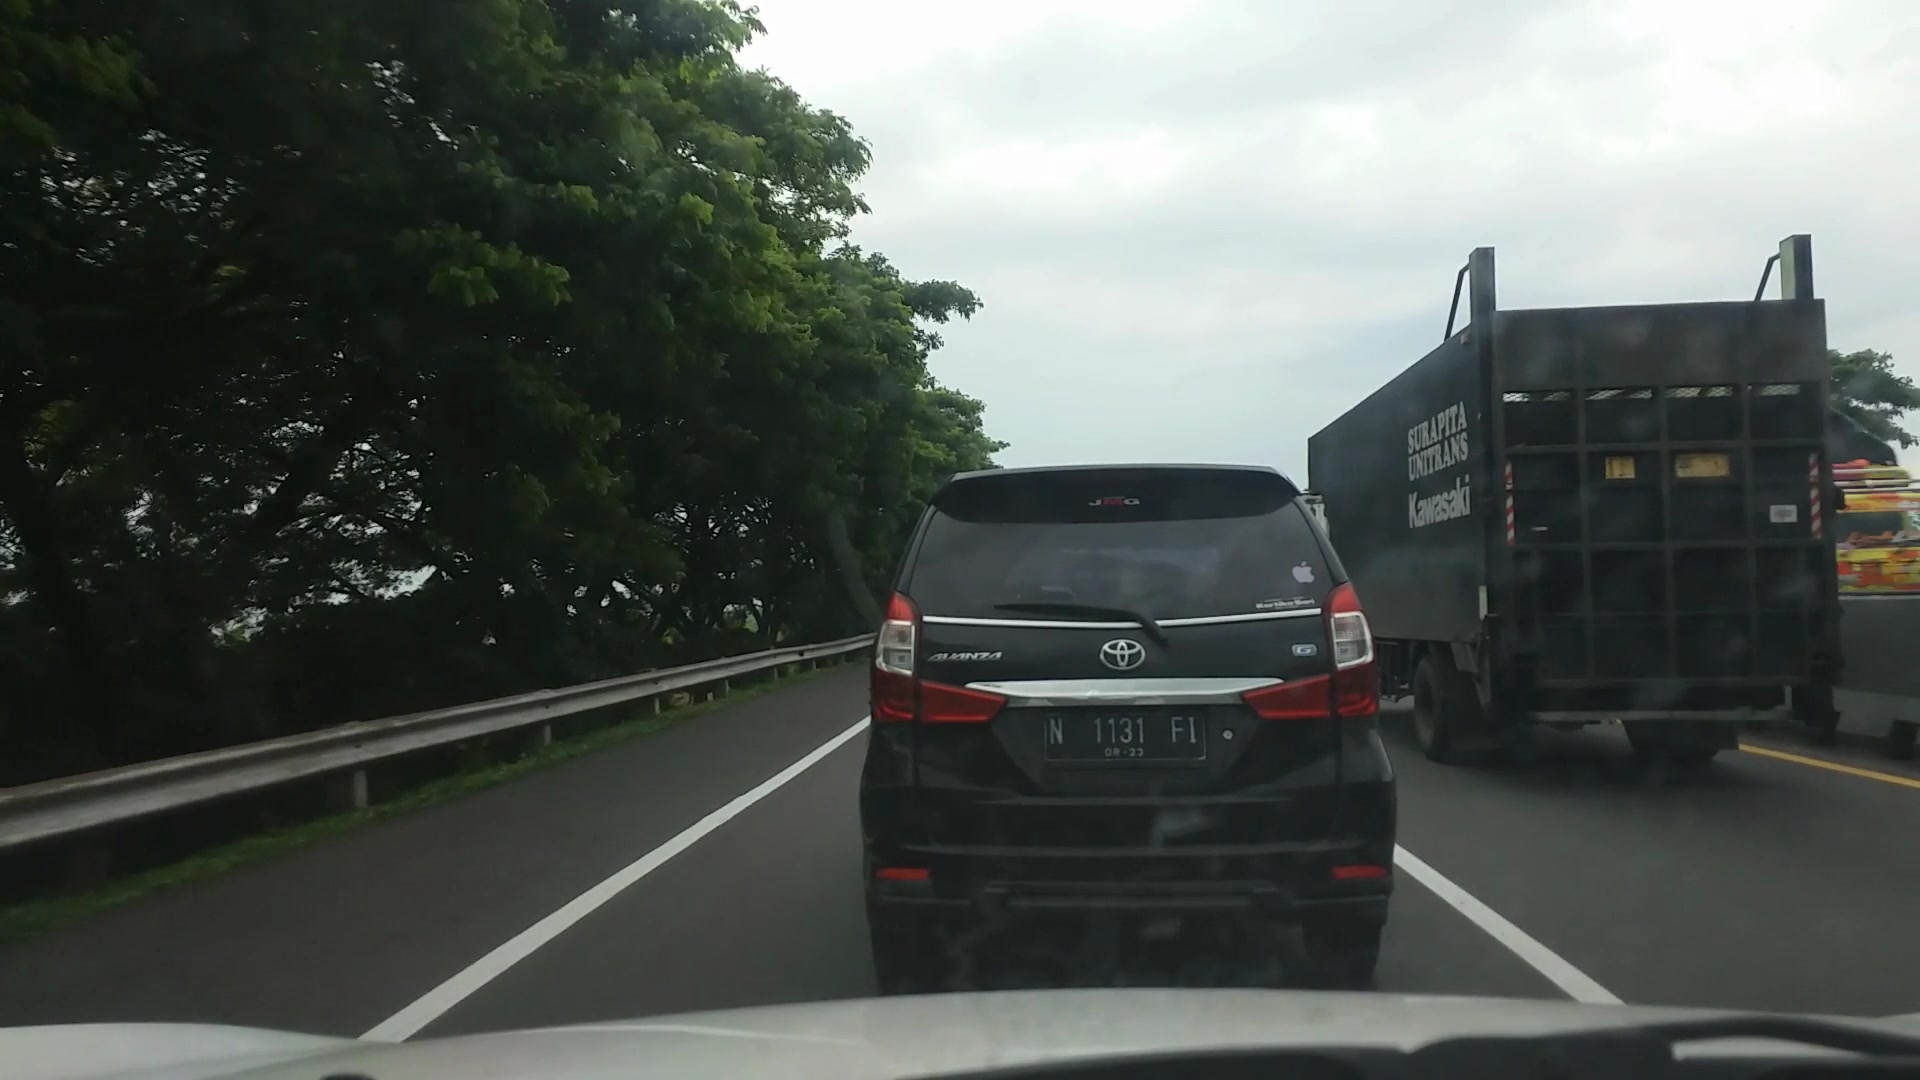plate_positive: (1044, 713, 1205, 760)
